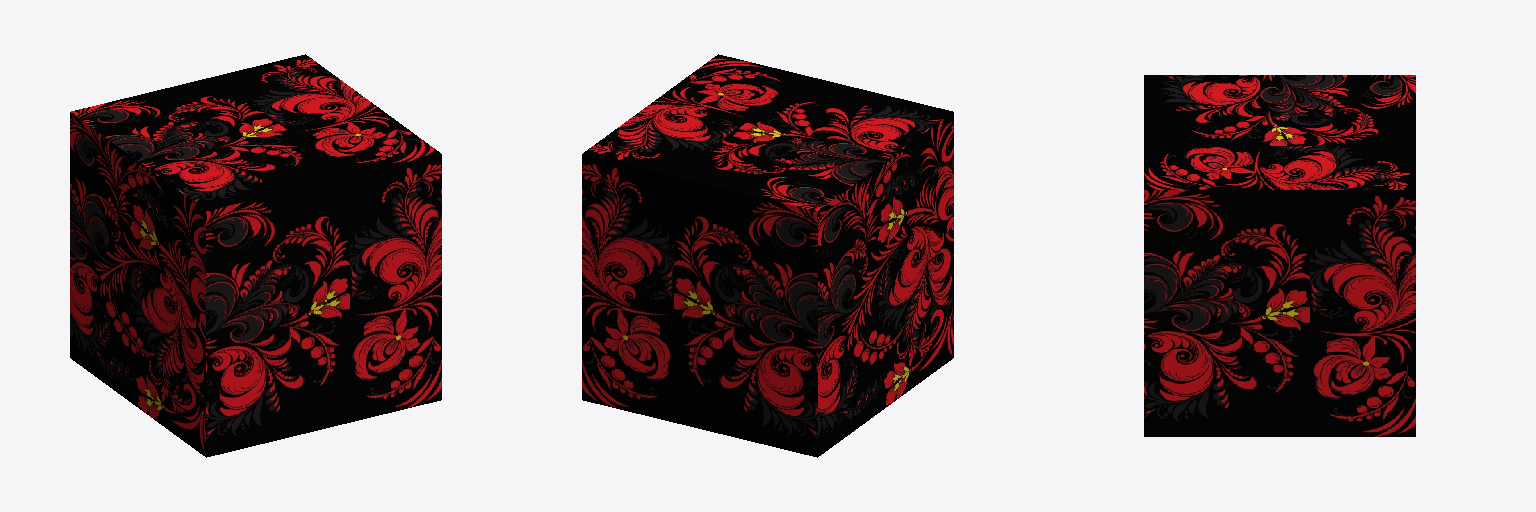
3 renders of one model, left to right at view 1: azimuth 30°, elevation 25°; view 2: azimuth 150°, elevation 25°; view 3: azimuth 270°, elevation 25°, orthographic.
Visible parts, largest first — view 1: Cube; view 2: Cube; view 3: Cube.
Part boxes in pixels (left/top/right/bottom): Cube: left=70, top=54, right=441, bottom=457; Cube: left=582, top=54, right=953, bottom=457; Cube: left=1144, top=75, right=1415, bottom=436.
Size of the model in its own units: 2 by 2 by 2.
1 materials, 1 textured.